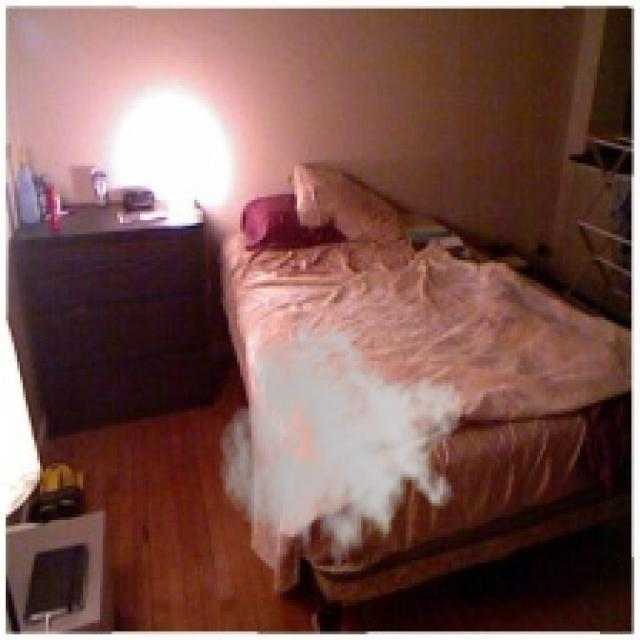smoke: (217, 314, 463, 583)
